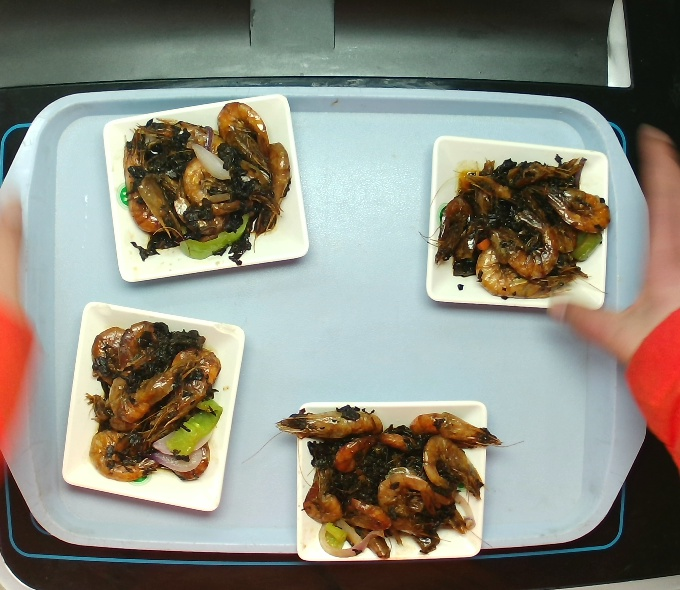wcq-GanCaiXia: (420, 145, 615, 301), (291, 409, 488, 563), (112, 103, 299, 265), (82, 318, 223, 488)
